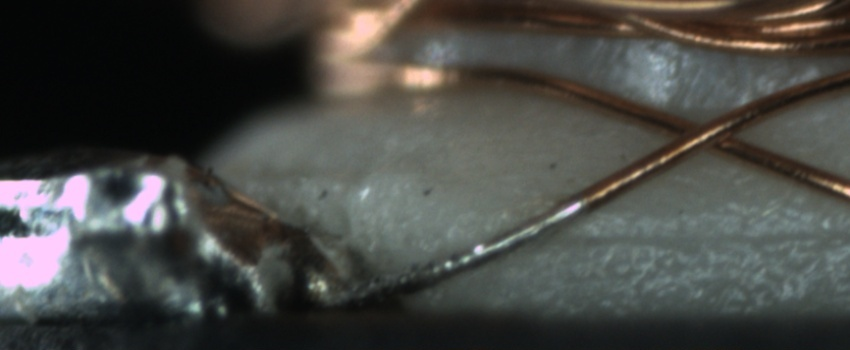CL: (651, 104, 754, 160)
DL: (558, 208, 850, 267)
TS: (340, 193, 588, 303)
